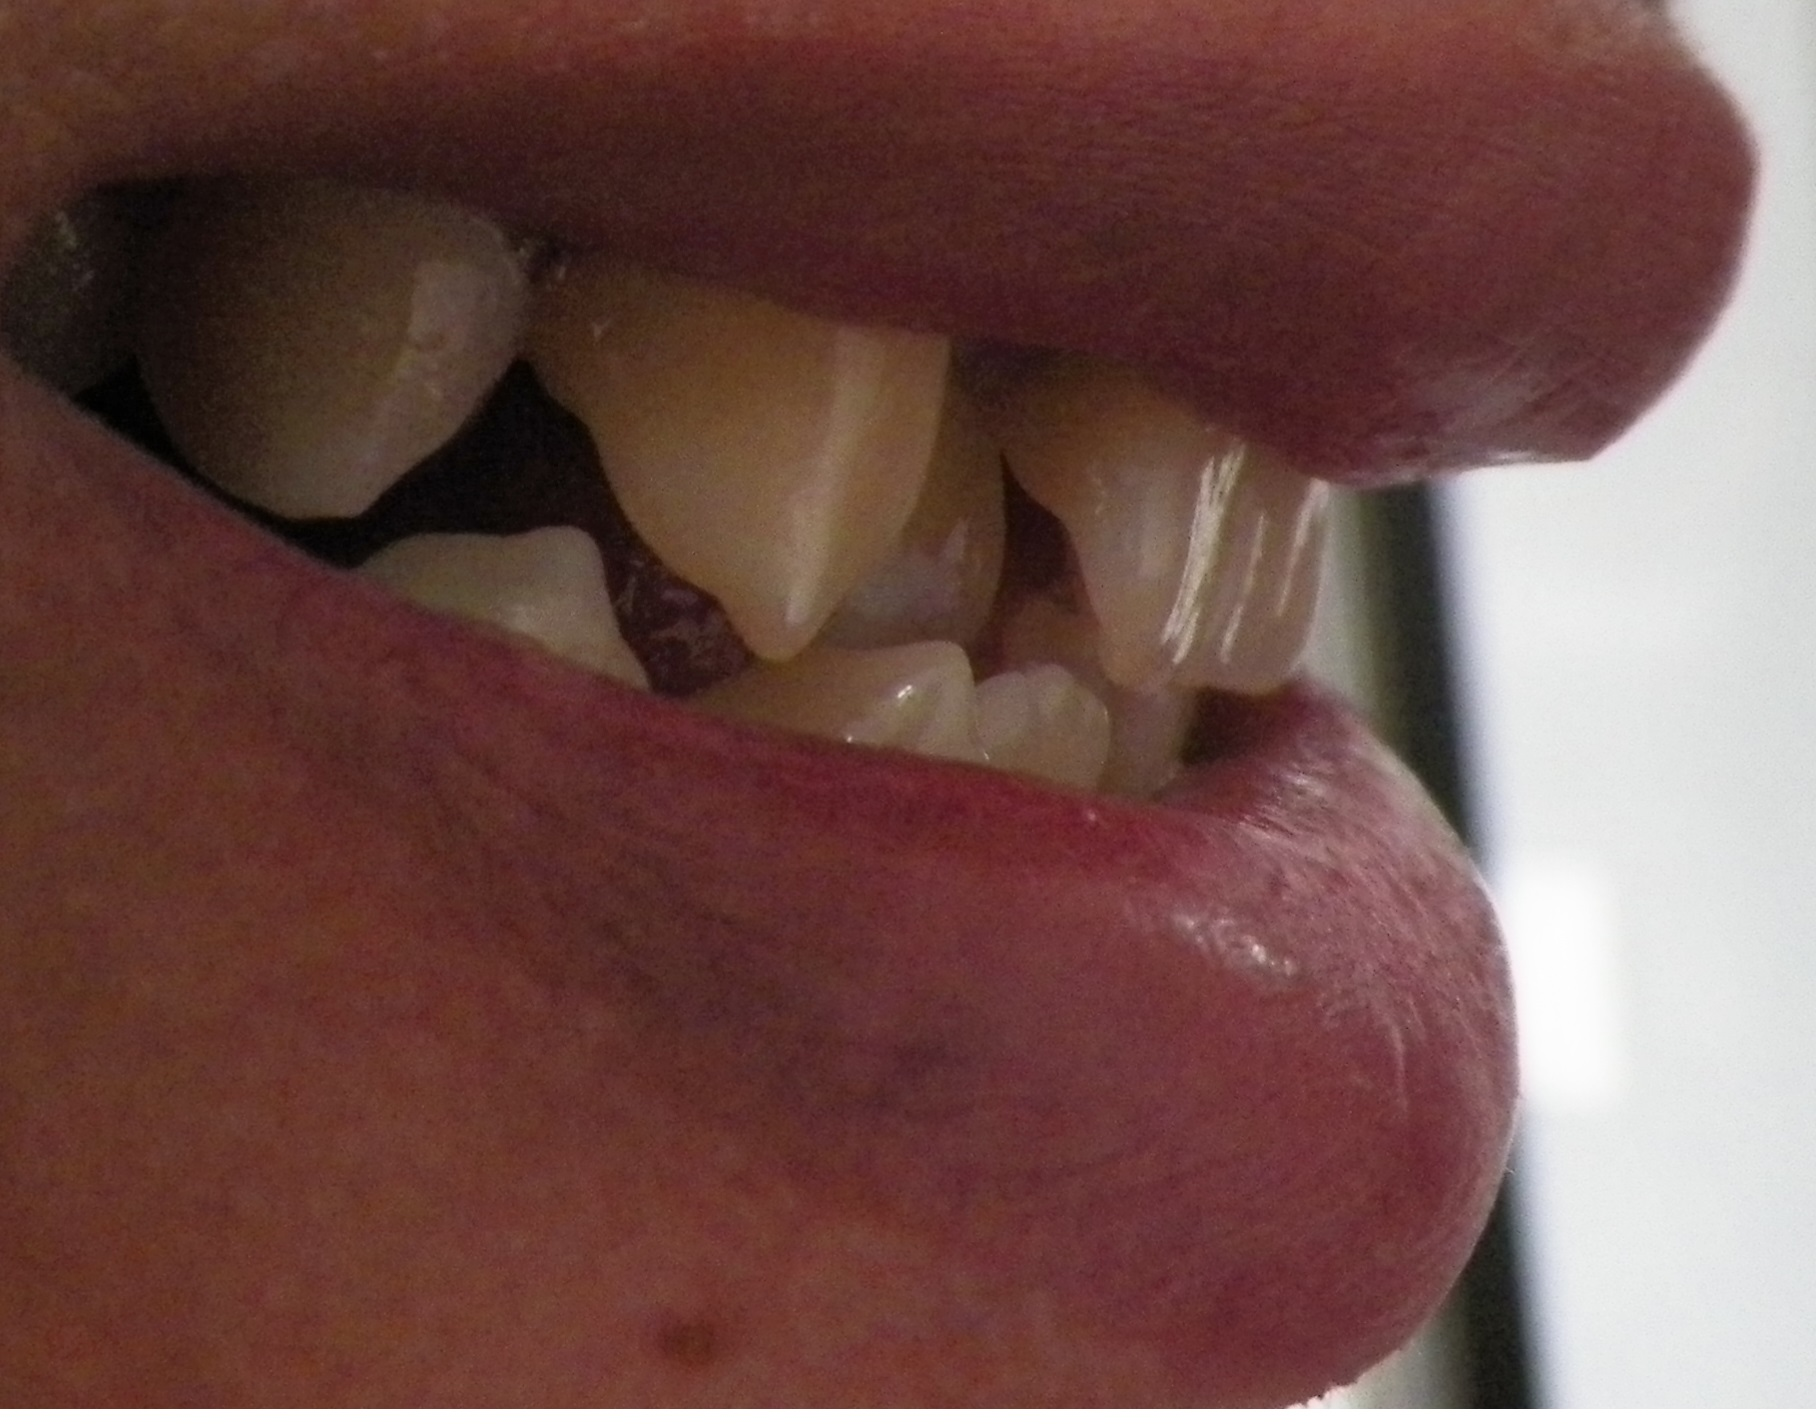boca: (124, 161, 1347, 805)
